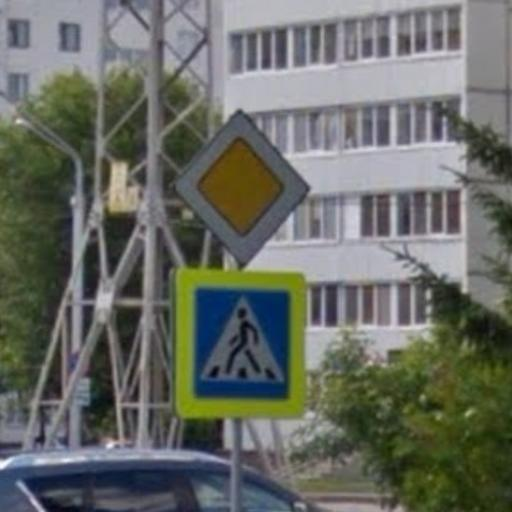traffic_sign: (172, 106, 317, 271), (165, 269, 309, 422)
